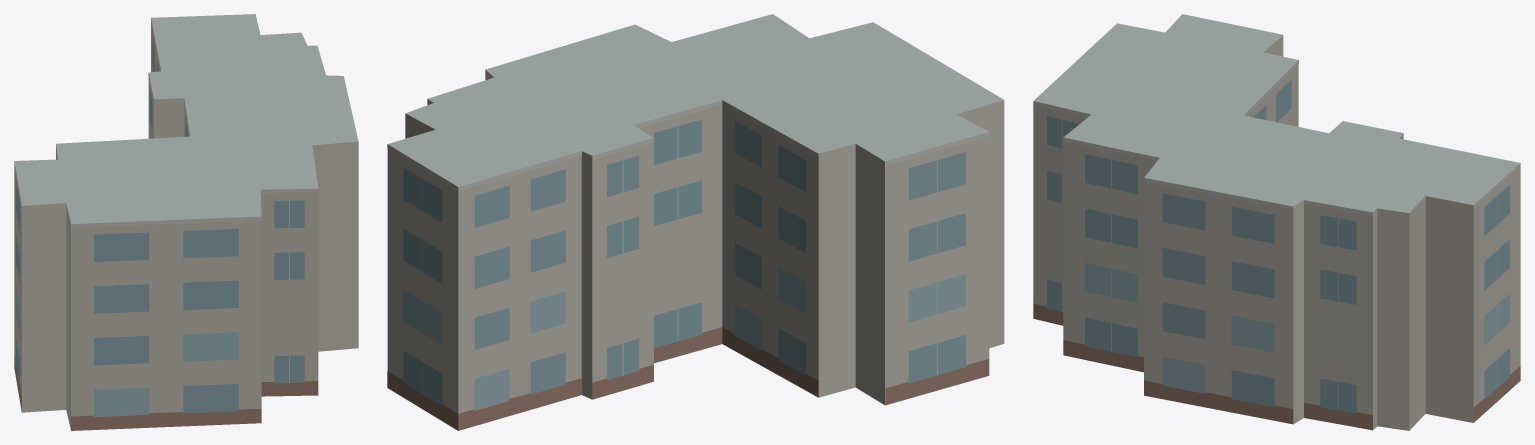
File: survey-upis-32618383.glb
The picture shows the model from 3 angles, left to right: view 1: azimuth 30°, elevation 25°; view 2: azimuth 150°, elevation 25°; view 3: azimuth 270°, elevation 25°; orthographic projection. The views are drawn at different scales.
Visible parts, largest first — view 1: survey-upis-32618383.tmp; view 2: survey-upis-32618383.tmp; view 3: survey-upis-32618383.tmp.
Boxes of the visible parts, bbox=[...] form: survey-upis-32618383.tmp: bbox=[14, 14, 358, 430]; survey-upis-32618383.tmp: bbox=[387, 14, 1004, 430]; survey-upis-32618383.tmp: bbox=[1033, 14, 1520, 430].
Bounding box in the file's own units: 26.66 × 13.6 × 27.57.
